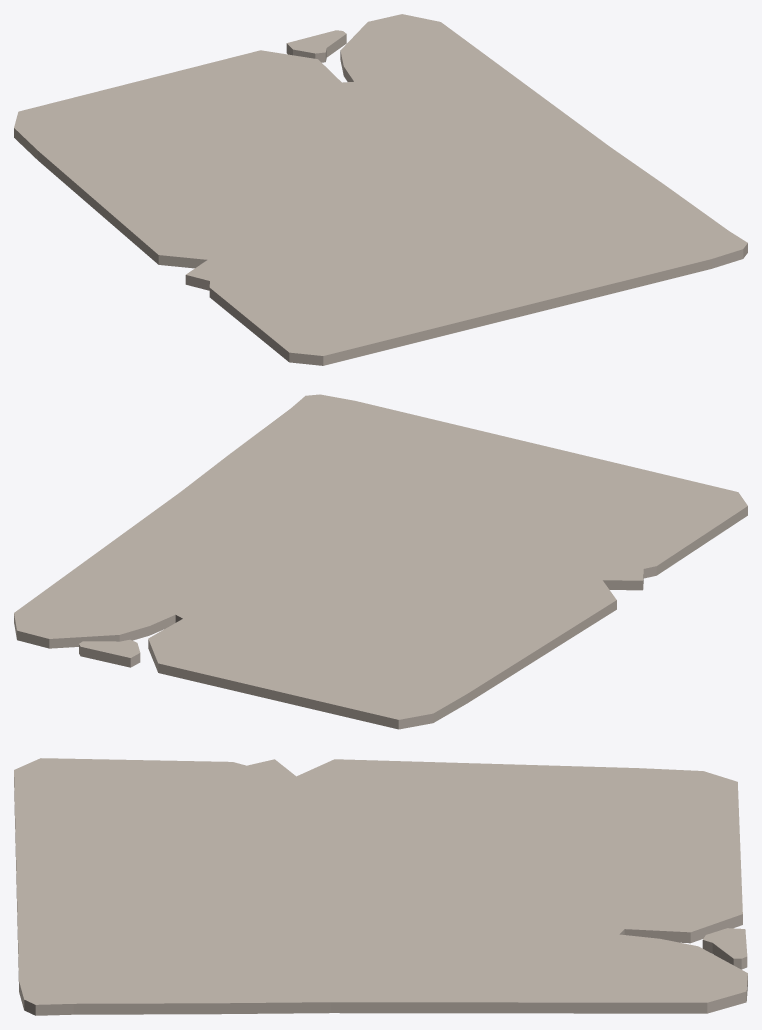
File: stone_grid.fbx
3 renders of one model, top to bottom at view 1: azimuth 30°, elevation 25°; view 2: azimuth 150°, elevation 25°; view 3: azimuth 270°, elevation 25°, orthographic. The views are drawn at different scales.
Parts seen in each view (by area): view 1: Plane.004; view 2: Plane.004; view 3: Plane.004.
Part boxes in pixels (x1,y1,x2,y2): Plane.004: (14,14,747,365); Plane.004: (14,394,747,729); Plane.004: (14,758,747,1015).
Size of the model in its own units: 50.56 by 1.08 by 63.56.
